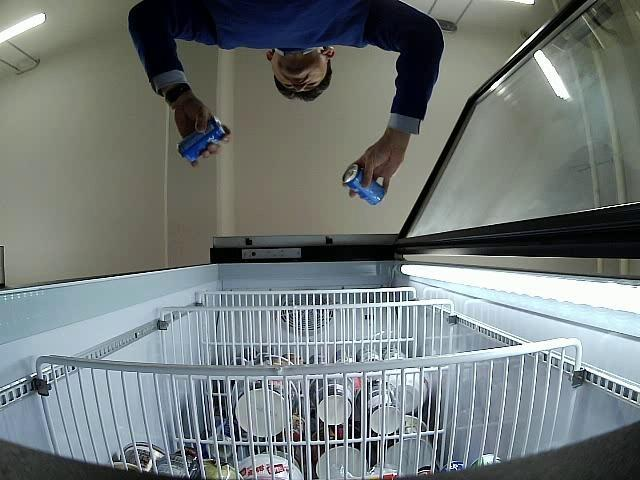15_letsbe: (176, 116, 230, 162), (342, 164, 385, 206)
